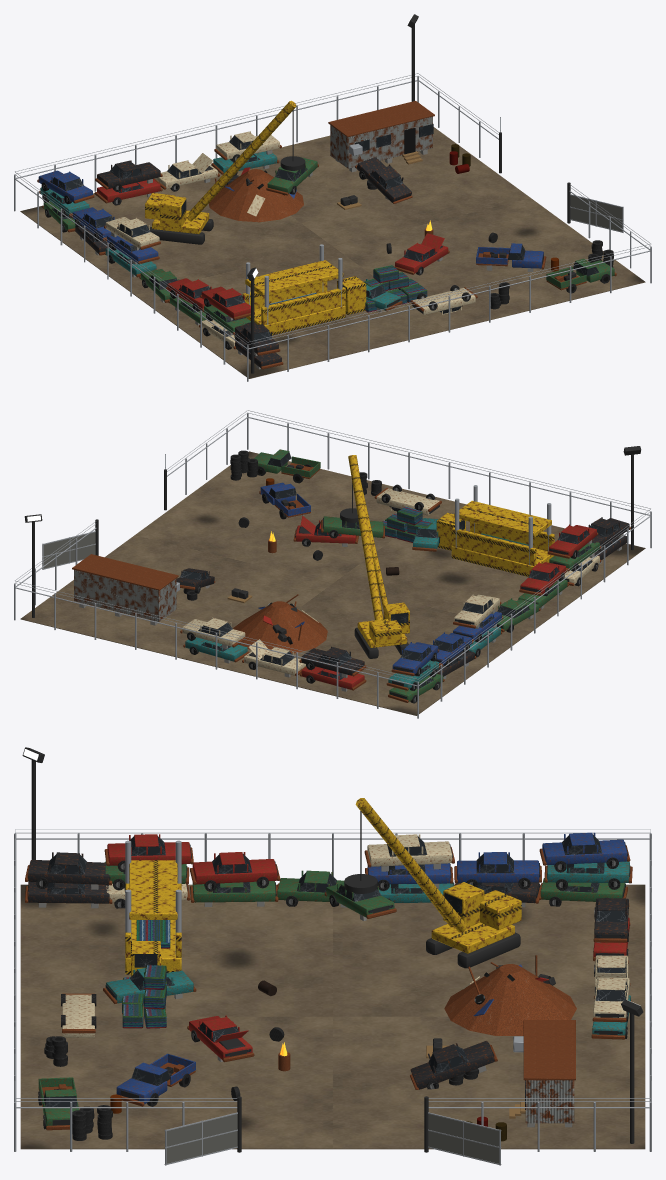
The model's file is gator-junk.glb.
The picture shows the model from 3 angles, top to bottom: view 1: azimuth 30°, elevation 25°; view 2: azimuth 150°, elevation 25°; view 3: azimuth 270°, elevation 25°; orthographic projection. The views are drawn at different scales.
Parts seen in each view (by area): view 1: gator-junk; view 2: gator-junk; view 3: gator-junk.
Part boxes in pixels (x1,y1,x2,y2): gator-junk: [14, 14, 651, 381]; gator-junk: [14, 410, 651, 718]; gator-junk: [14, 747, 651, 1165].
Size of the model in its own units: 36.39 by 11.87 by 34.12.
Materials: 26 (18 with a texture image).
